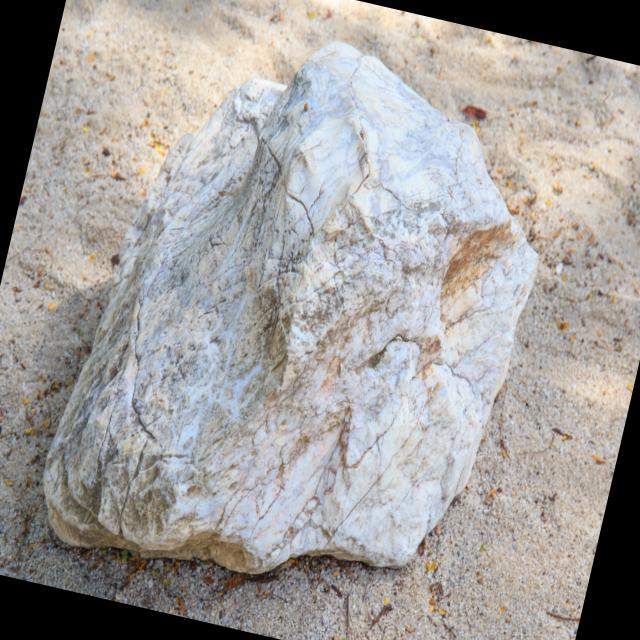stone: (43, 42, 535, 571)
white-sand: (8, 0, 640, 415), (0, 277, 622, 640)
